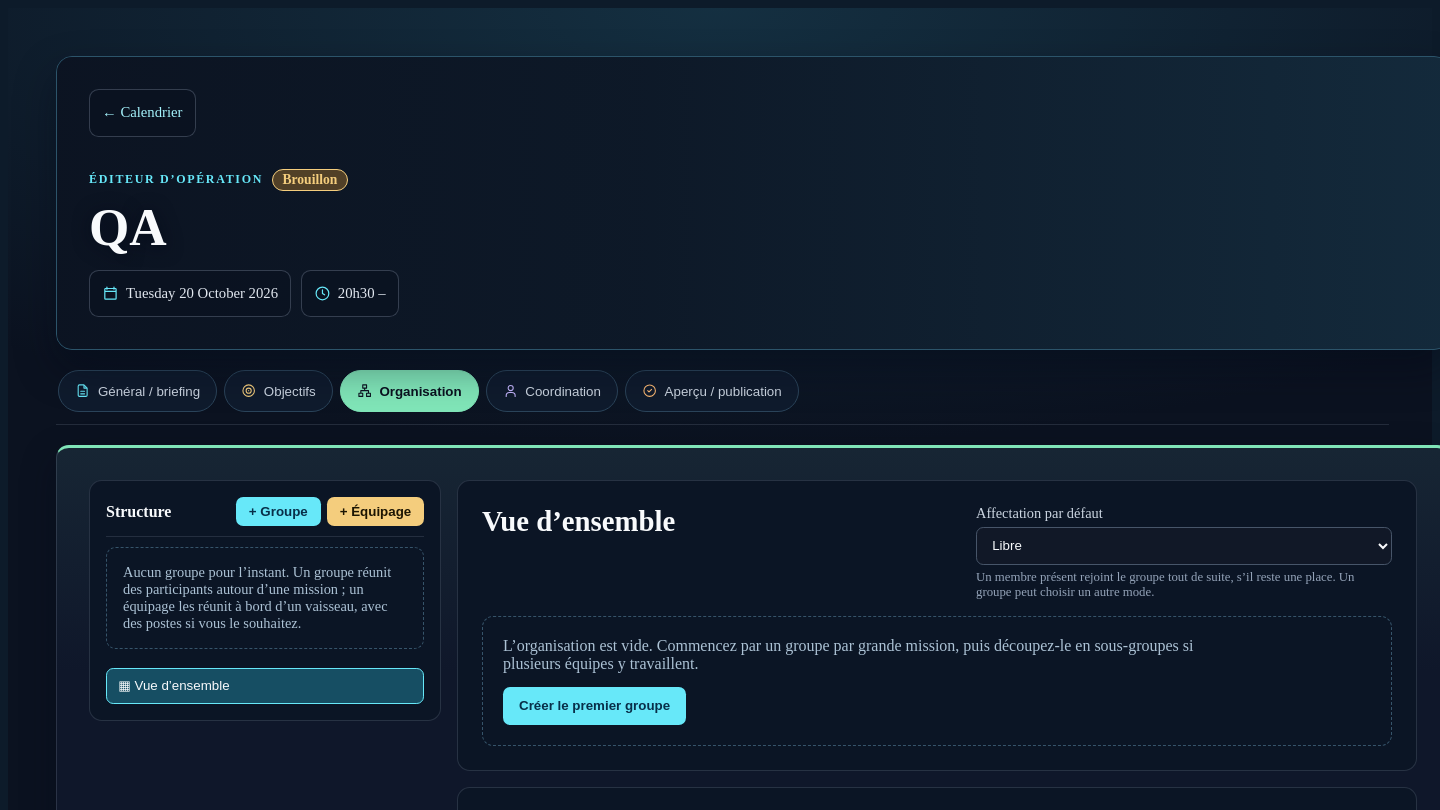
Test: OperationEditorComponent › creates a group in one click, selects it and opens its settings
This screenshot has width=1440, height=810.
Expected: the element that starts with "Vue d’ensemble" is shown, [457,480,1417,770]
Click the button with class "structure__add" showing "+ Groupe" at (278, 512), box [236,497,320,526]
(page scrolled)
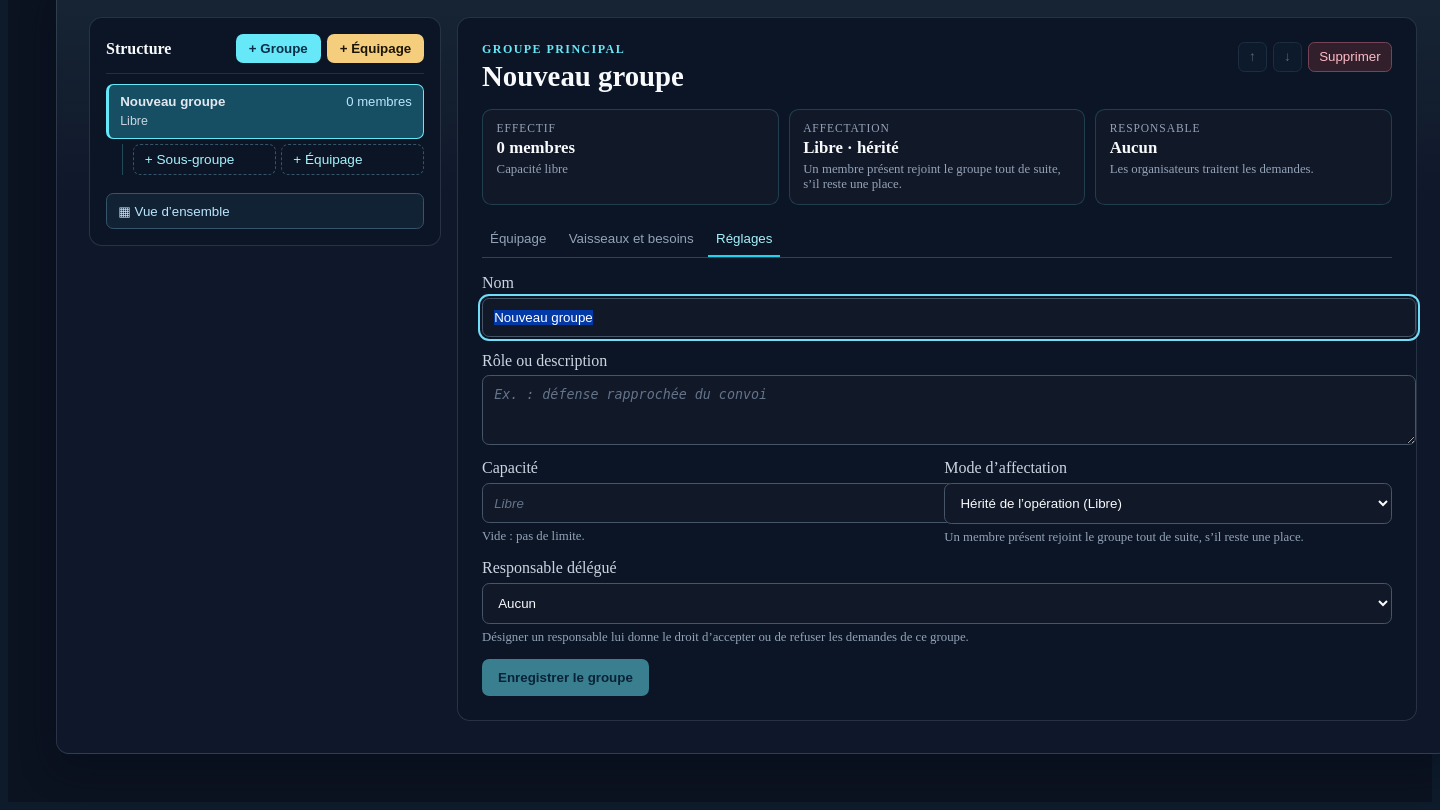
Expected: the form is shown, [482,274,1392,696]
